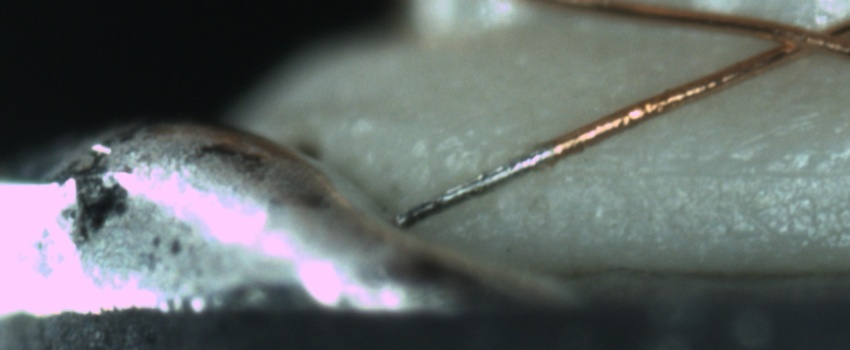CL: (766, 13, 846, 60)
DL: (533, 140, 850, 204)
TS: (392, 142, 554, 229)
